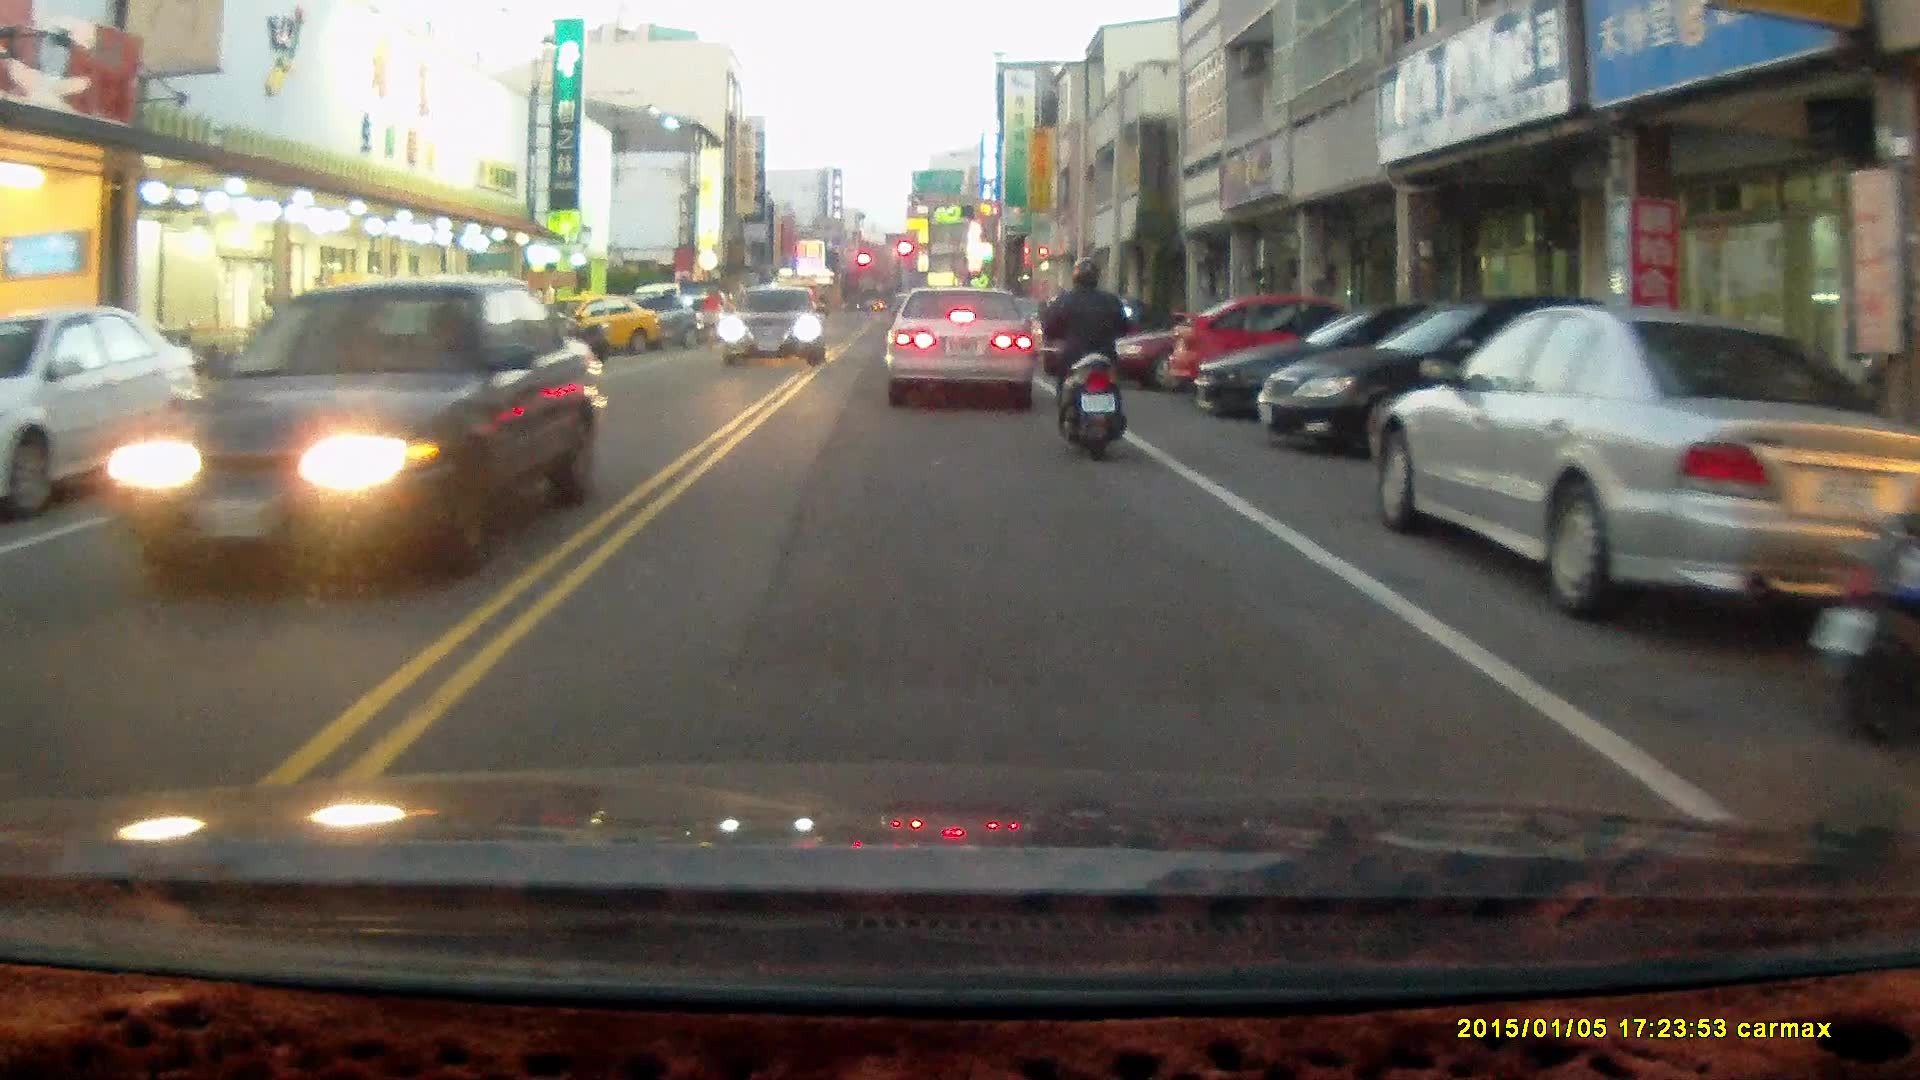rider: (1038, 255, 1135, 463), (697, 283, 725, 352)
vehicle: (1374, 309, 1920, 628), (127, 278, 607, 587), (1255, 300, 1640, 453), (1189, 307, 1554, 427), (0, 310, 195, 521), (1163, 295, 1385, 402), (883, 286, 1037, 413), (524, 292, 656, 361), (721, 284, 828, 369)
